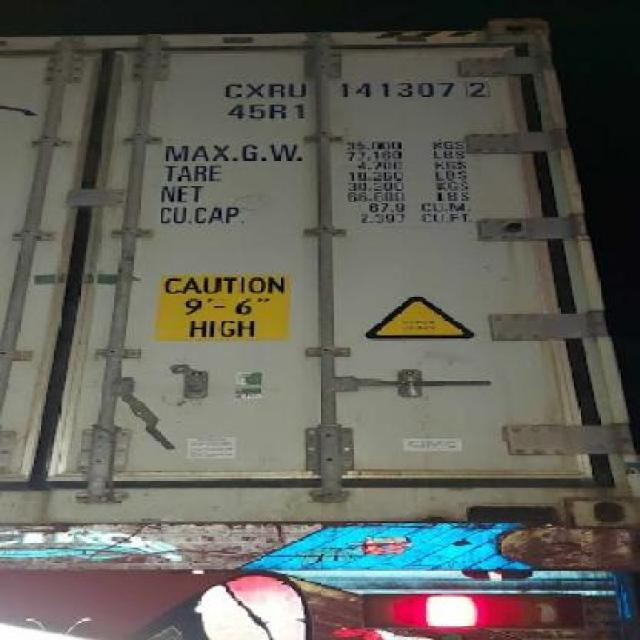ISO: (222, 101, 312, 122)
container_number: (213, 77, 497, 102)
